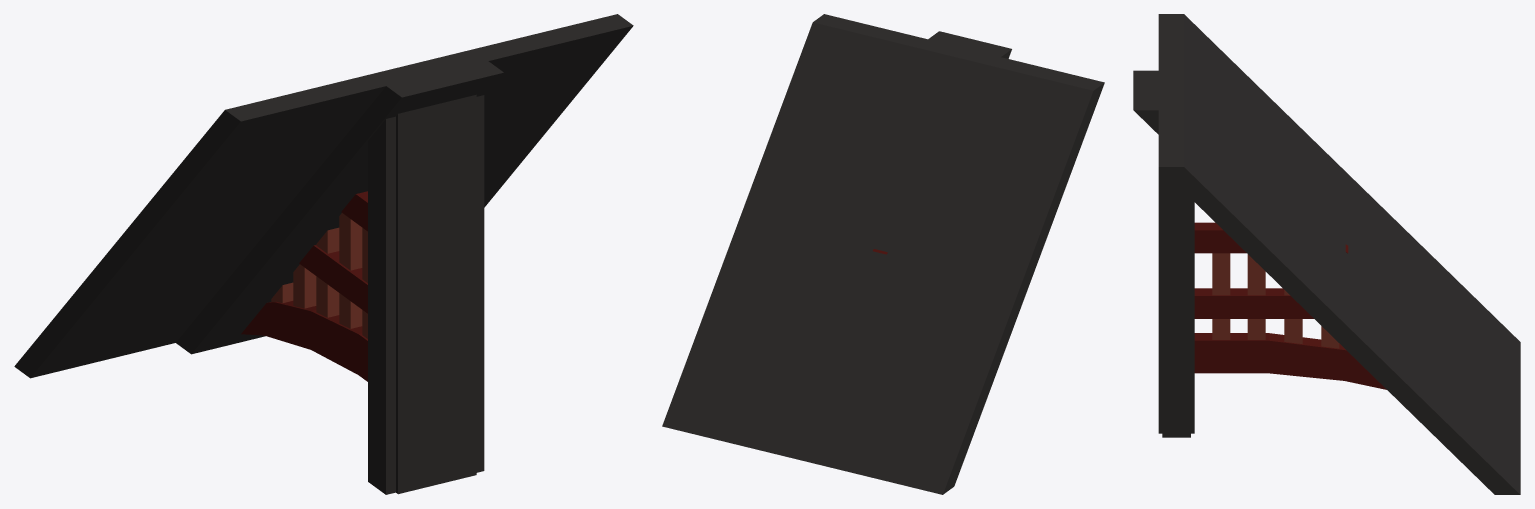
Rendered from Roofslant.fbx.
The picture shows the model from 3 angles, left to right: view 1: azimuth 30°, elevation 25°; view 2: azimuth 150°, elevation 25°; view 3: azimuth 270°, elevation 25°; orthographic projection. The views are drawn at different scales.
Parts seen in each view (by area): view 1: Roof.003; view 2: Roof.003; view 3: Roof.003.
Part boxes in pixels (x1,y1,x2,y2): Roof.003: [14, 14, 633, 494]; Roof.003: [662, 14, 1104, 494]; Roof.003: [1133, 14, 1520, 494].
Size of the model in its own units: 200 by 200 by 214.
